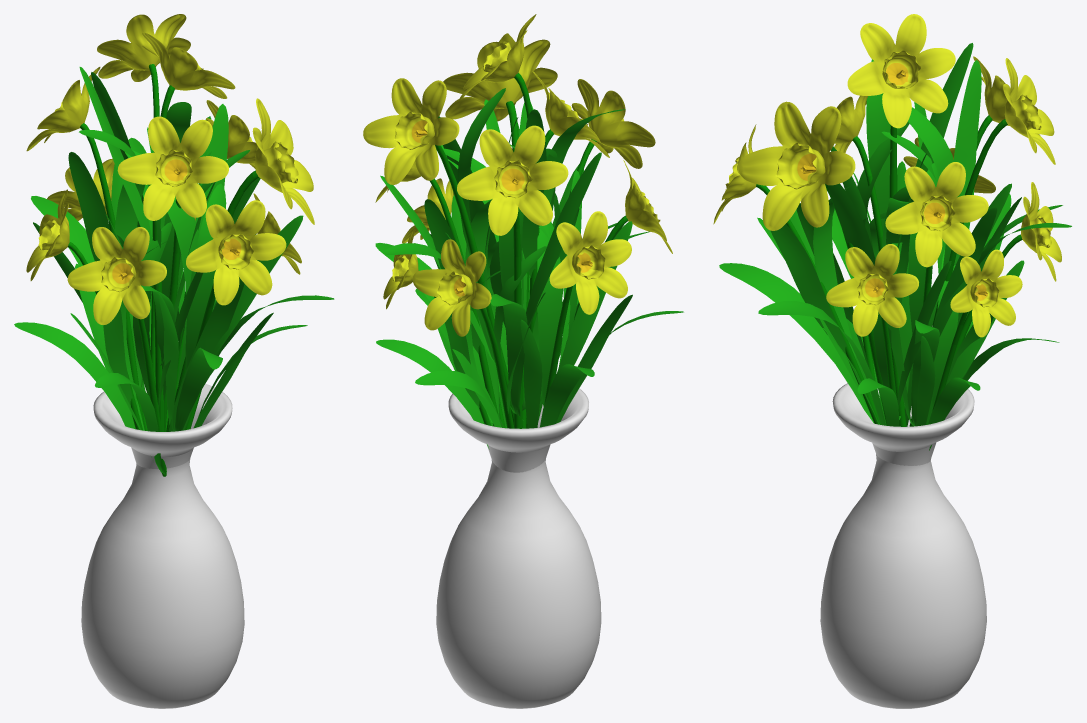
The model's file is Flores.fbx.
3 views of the same model, side by side, from view 1: azimuth 30°, elevation 25°; view 2: azimuth 150°, elevation 25°; view 3: azimuth 270°, elevation 25° (orthographic).
Visible parts, largest first — view 1: Daffodil, Flower pot; view 2: Daffodil, Flower pot; view 3: Daffodil, Flower pot.
Boxes of the visible parts, <box> form: Daffodil: <box>14,14,334,476</box>; Flower pot: <box>81,384,244,708</box>; Daffodil: <box>363,14,683,449</box>; Flower pot: <box>436,388,601,708</box>; Daffodil: <box>713,14,1071,450</box>; Flower pot: <box>820,383,986,708</box>.
Size of the model in its own units: 408 by 1007 by 490.
